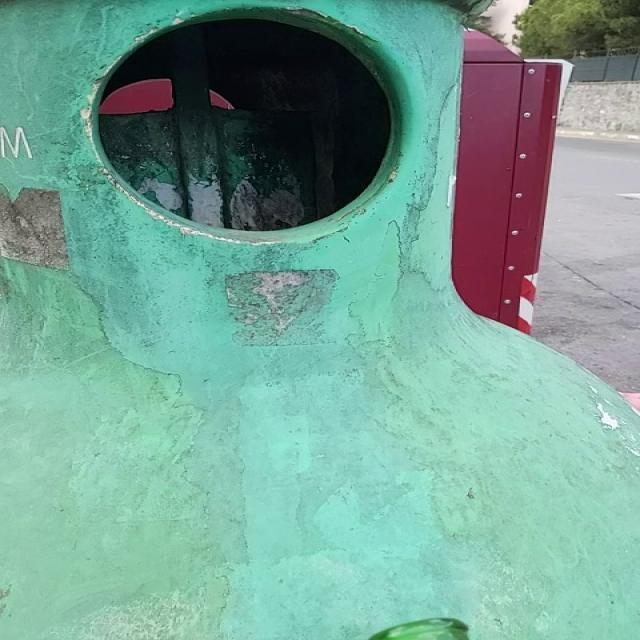Glass: (371, 620, 469, 640)
